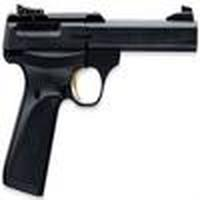gun: (1, 4, 200, 185)
